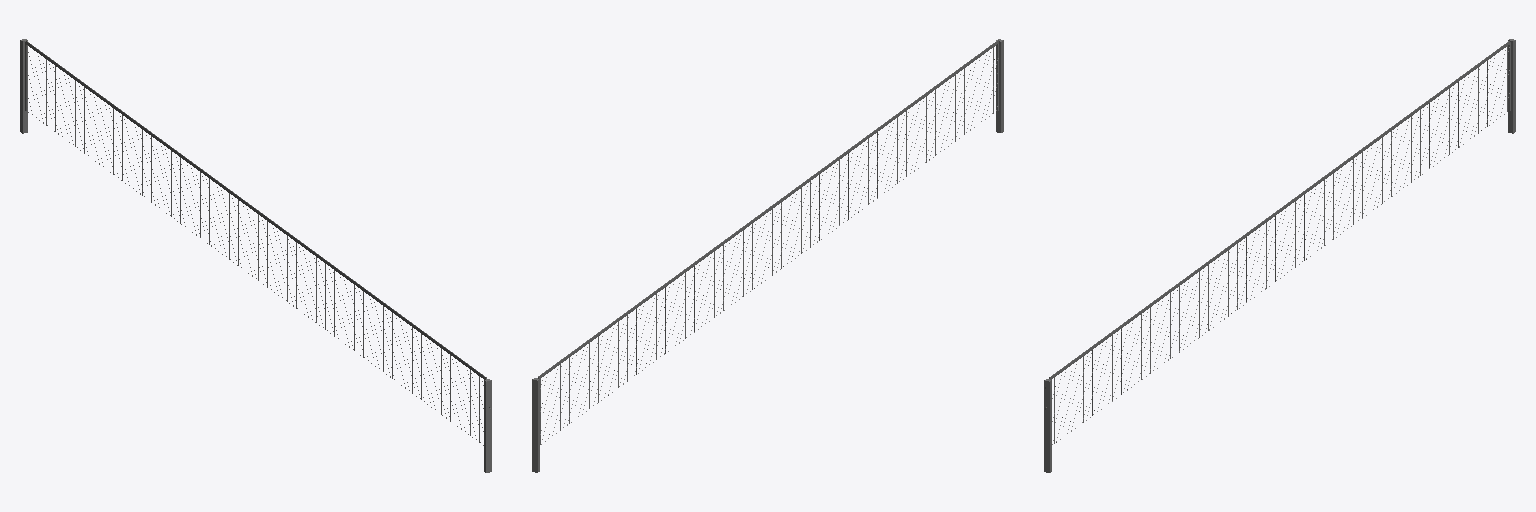
URDF robot description (object):
<?xml version="1.0"?>
<robot name="object">
  <link name="object">
    <visual>
      <origin xyz="0 0 0"/>
      <geometry>
        <mesh
          filename="../mesh/tennis_net.stl" />
      </geometry>
      <material name="mat">
        <color rgba="0.5 0.5 0.5 1"/>
      </material>
    </visual>

    <collision>
      <origin xyz="0 0 0"/>
      <geometry>
        <mesh
          filename="../mesh/tennis_net.stl" />
      </geometry>
    </collision>
  </link>
</robot>

--- Render facts (derived) ---
Views: 3 orthographic renders of the robot side by side, from view 1: azimuth 30°, elevation 25°; view 2: azimuth 150°, elevation 25°; view 3: azimuth 330°, elevation 25°.
Robot: object — 1 links, 0 joints (none); root link object; default pose: every joint at zero.
Links seen in each view (by area): view 1: object; view 2: object; view 3: object.
Link boxes in pixels (bbox=[...]): object: bbox=[20, 39, 491, 472]; object: bbox=[532, 39, 1003, 472]; object: bbox=[1044, 39, 1515, 472].
Size in the robot's own frame: 0.0803 by 12.9 by 1.42 metres.
1 mesh visuals loaded from 1 distinct referenced files (1 binary STL).
